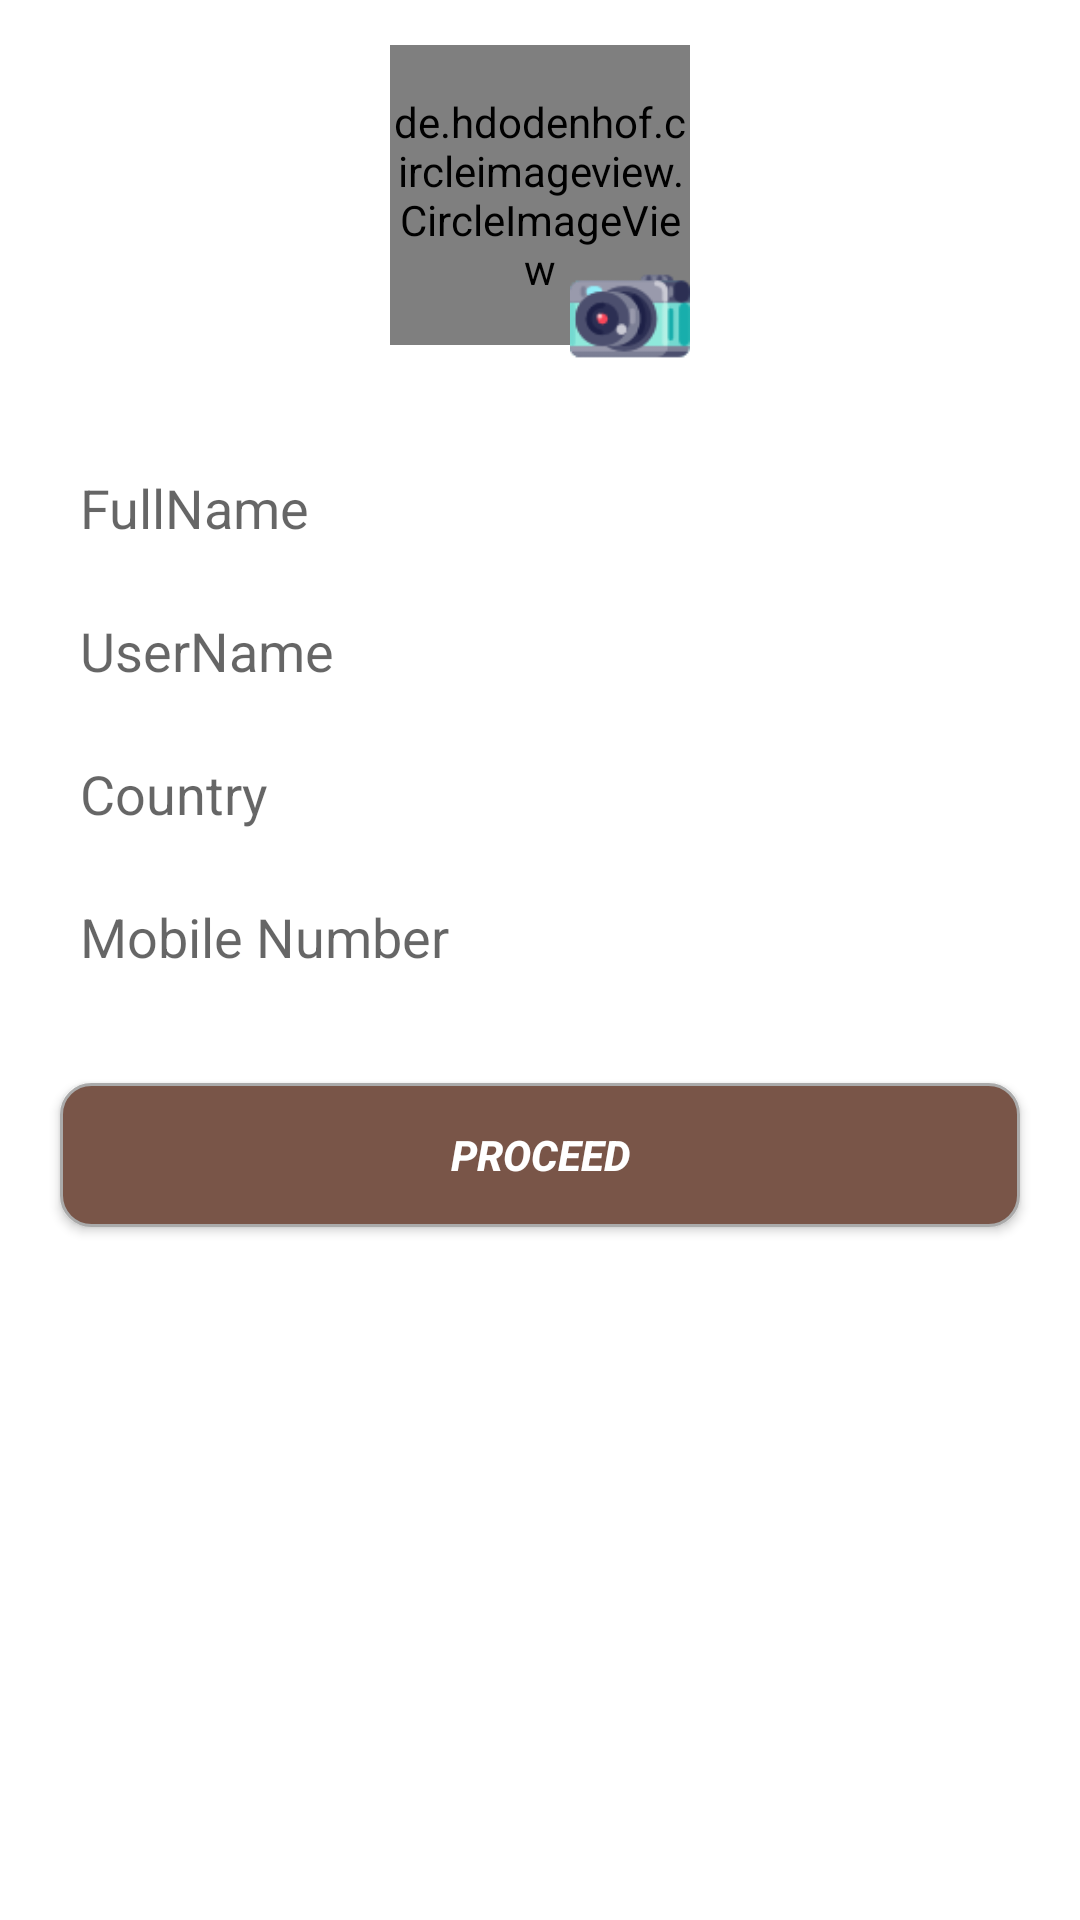

Icons on this 1080 x 1920 Android screen, each with the point to tap as (x=x, y=y):
updateimage: (x=630, y=316)
